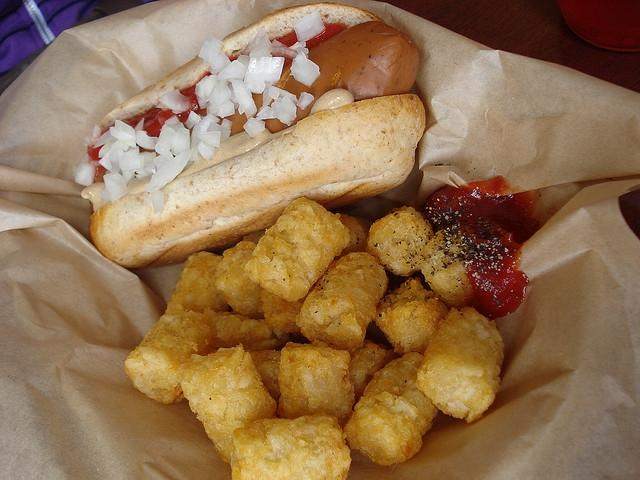onion: (144, 148, 192, 193), (243, 56, 285, 86), (293, 10, 326, 42), (288, 53, 320, 86), (117, 146, 156, 172), (190, 116, 207, 164), (158, 89, 192, 112), (232, 80, 254, 115), (98, 126, 122, 158), (110, 120, 136, 148), (214, 60, 247, 82), (199, 34, 224, 63), (122, 167, 154, 188), (207, 80, 231, 108), (104, 171, 126, 201), (155, 126, 176, 156), (268, 85, 298, 106), (156, 122, 185, 143), (171, 128, 190, 156), (243, 28, 263, 54), (75, 162, 96, 186), (243, 117, 266, 138), (208, 122, 230, 143), (208, 50, 230, 70), (258, 85, 273, 113), (136, 131, 158, 150), (198, 114, 220, 132), (244, 76, 266, 94), (270, 46, 298, 59), (154, 152, 174, 170), (184, 110, 202, 130), (217, 99, 235, 118), (92, 130, 111, 148), (256, 107, 276, 124), (296, 92, 314, 110), (152, 190, 164, 214), (282, 96, 296, 116), (245, 99, 258, 120), (248, 46, 272, 57), (198, 142, 212, 160), (194, 92, 208, 110), (110, 149, 120, 173), (90, 123, 100, 145), (207, 102, 220, 118), (236, 54, 250, 68), (113, 139, 129, 150), (165, 114, 180, 125), (288, 42, 306, 50), (220, 119, 232, 130), (296, 48, 309, 58), (146, 160, 156, 173), (272, 40, 288, 48), (135, 118, 144, 132)
